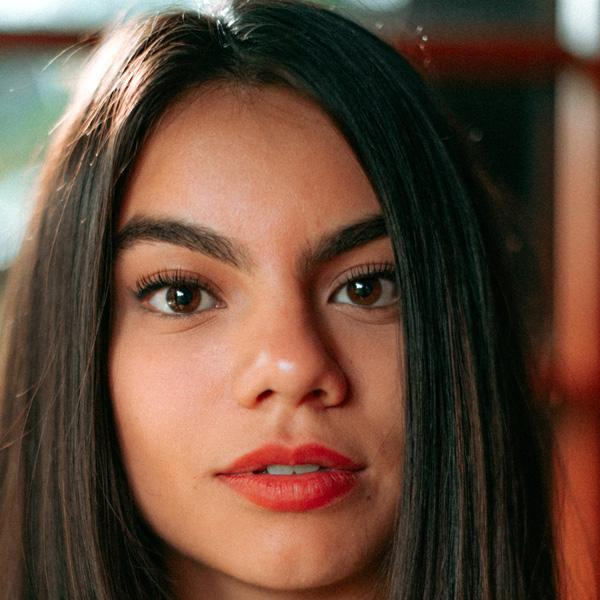Eyes: (121, 261, 237, 332), (316, 256, 418, 321)
